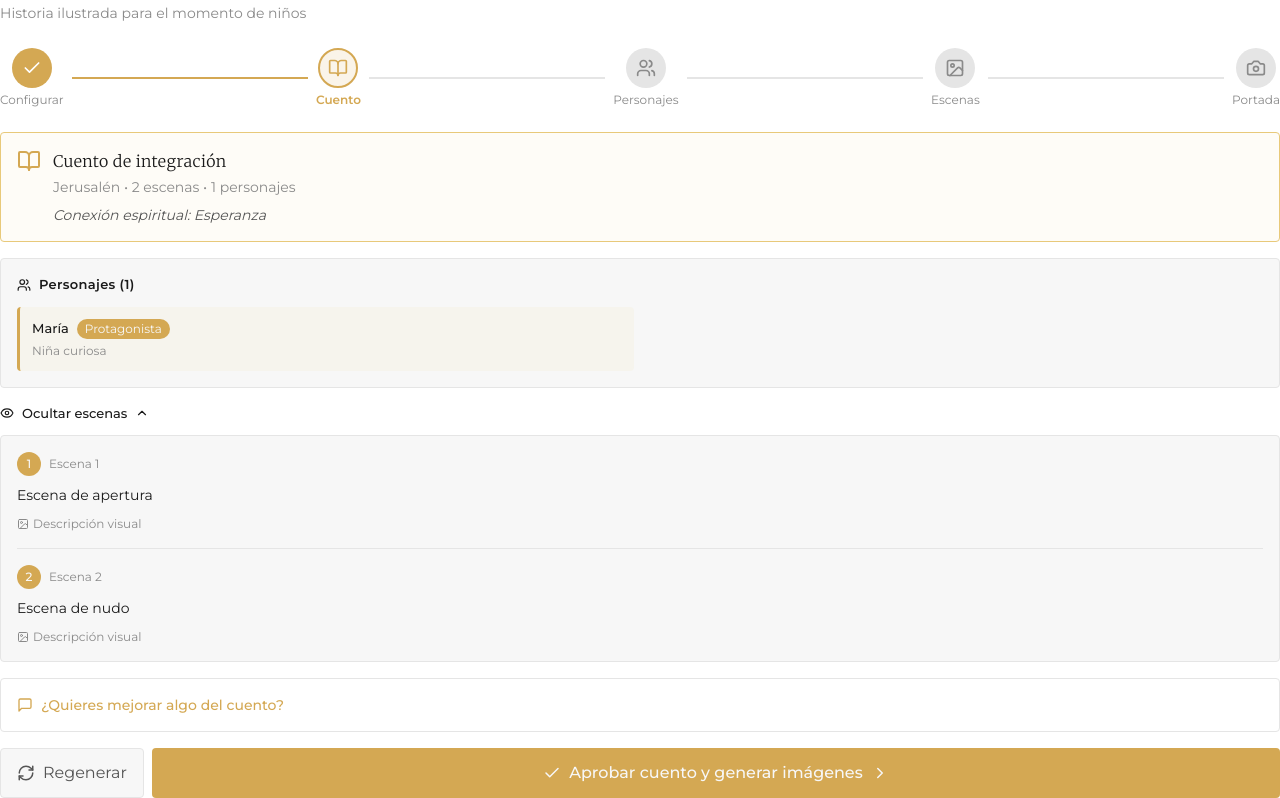
Test: Case 8: authoritative persistence rejection preserves story/step › on upsert error the editor stays on the story step, with no kick and a visible error
(page scrolled)
Click the button "Aprobar cuento y generar imágenes": (716, 773) [152, 748, 1279, 797]
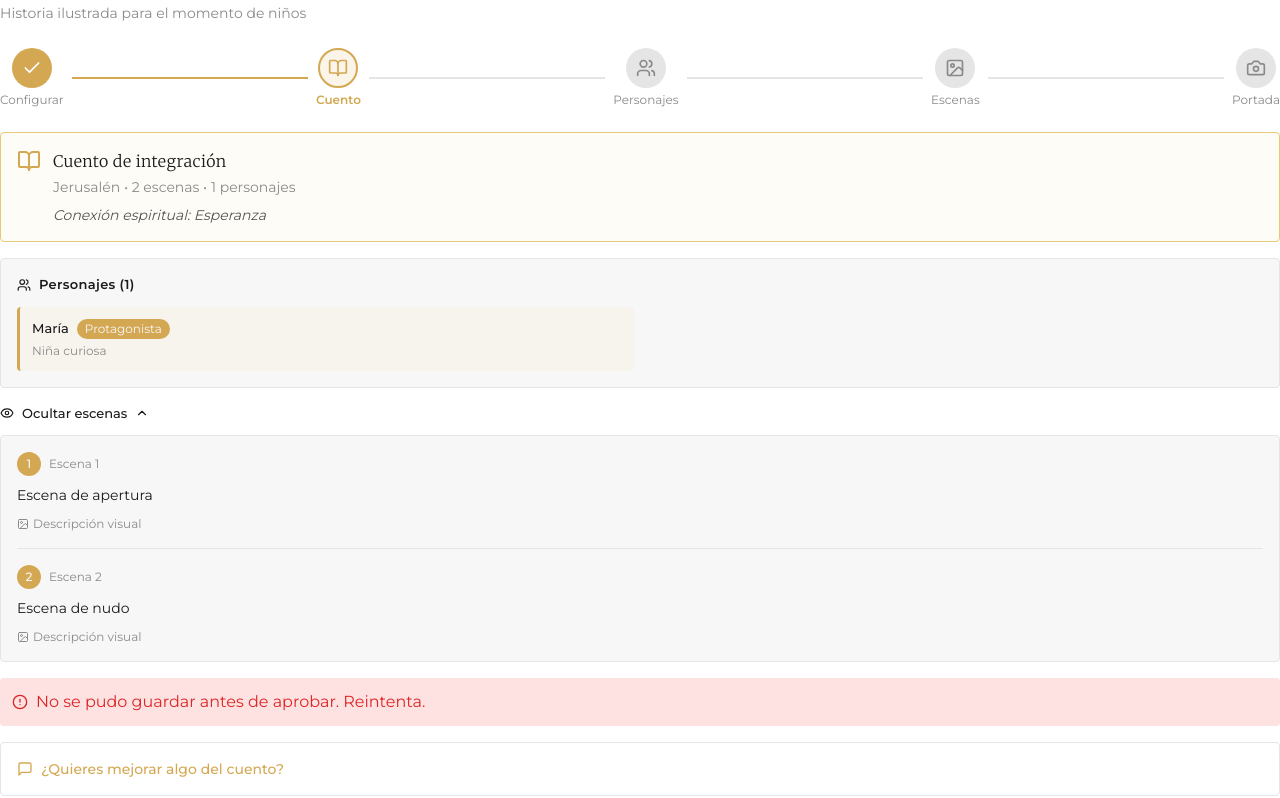
Expected: the text "No se pudo guardar antes de aprobar. Reintenta." is shown, [0, 678, 1279, 726]
